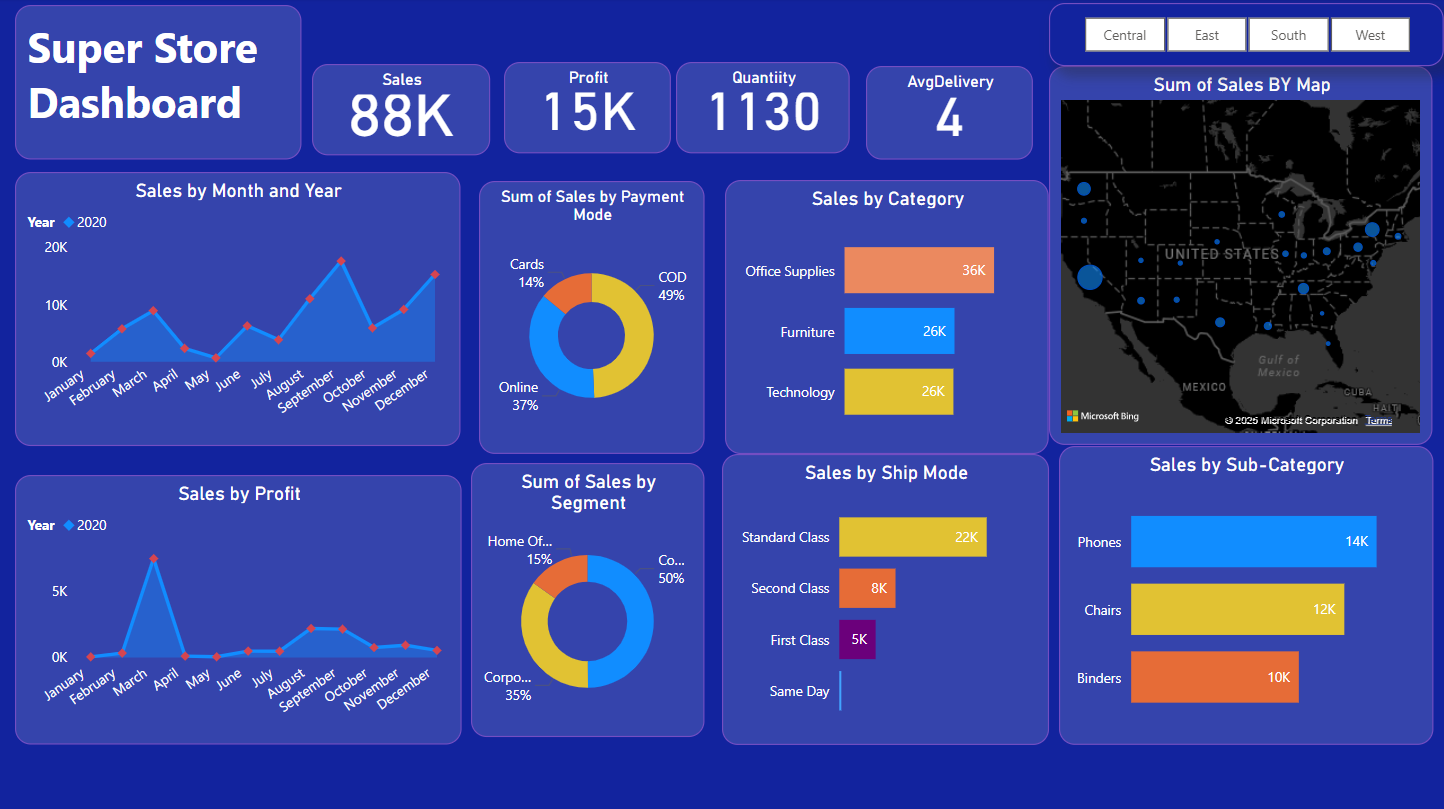

This screenshot's page, from the dashboard's own definition file:
{"tool":"powerbi","page":{"name":"Page 1","canvas":[1280,720],"ordinal":0},"visuals":[{"type":"clusteredBarChart","title":" Sales by Sub-Category","fields":{"Category":["SuperStore_Sales.Sub-Category"],"Y":["Sum(SuperStore_Sales.Sales)"]},"box":[939,397.2,331.6,265.1],"z":0},{"type":"clusteredBarChart","title":" Sales by Category","fields":{"Category":["SuperStore_Sales.Category"],"Y":["Sum(SuperStore_Sales.Sales)"]},"box":[642.9,161.4,287.3,243],"z":1000},{"type":"clusteredBarChart","title":" Sales by Ship Mode","fields":{"Category":["SuperStore_Sales.Ship Mode"],"Y":["Sum(SuperStore_Sales.Sales)"]},"box":[640.2,404.3,290,258],"z":2000},{"type":"areaChart","title":"Sales by Month and Year","fields":{"Y":["Sum(SuperStore_Sales.Sales)"],"Category":["SuperStore_Sales.Order Date.Variation.Date Hierarchy.Month","SuperStore_Sales.Order Date.Variation.Date Hierarchy.Day"],"Series":["SuperStore_Sales.Order Date.Variation.Date Hierarchy.Year"]},"box":[13.3,154.3,394.6,243],"z":3000},{"type":"areaChart","title":"Sales by Profit","fields":{"Category":["SuperStore_Sales.Order Date.Variation.Date Hierarchy.Month","SuperStore_Sales.Order Date.Variation.Date Hierarchy.Day"],"Series":["SuperStore_Sales.Order Date.Variation.Date Hierarchy.Year"],"Y":["Sum(SuperStore_Sales.Profit)"]},"box":[13.3,423,396.4,239.4],"z":4000},{"type":"map","title":"Sum of Sales BY Map","fields":{"Size":["Sum(SuperStore_Sales.Sales)"],"Category":["SuperStore_Sales.State"]},"box":[930.1,60.3,340.5,336.1],"z":5000},{"type":"donutChart","fields":{"Category":["SuperStore_Sales.Segment"],"Y":["Sum(SuperStore_Sales.Sales)"]},"box":[417.6,412.3,206.6,243],"z":6000},{"type":"donutChart","fields":{"Y":["Sum(SuperStore_Sales.Sales)"],"Category":["SuperStore_Sales.Payment Mode"]},"box":[424.7,162.3,199.5,242.1],"z":7000},{"type":"slicer","fields":{"Values":["SuperStore_Sales.Region"]},"box":[930.1,4.4,350.2,55.9],"z":8000},{"type":"textbox","box":[13.3,6.2,253.6,137.4],"z":9000},{"type":"card","title":"Sales","fields":{"Values":["Sum(SuperStore_Sales.Sales)"]},"box":[276.7,58.5,157.8,80.7],"z":10000},{"type":"card","title":"Profit","fields":{"Values":["Sum(SuperStore_Sales.Profit)"]},"box":[446.9,56.7,148.1,80.7],"z":11000},{"type":"card","title":"Quantiity","fields":{"Values":["Sum(SuperStore_Sales.Quantity)"]},"box":[599.4,56.7,154.3,80.7],"z":12000},{"type":"card","title":"AvgDelivery ","fields":{"Values":["Avg(SuperStore_Sales.AvgDelivery)"]},"box":[767.9,60.3,148.1,83.3],"z":13000}]}

Visuals, with their boxes in screenshot pixels (x1, y1, x2, y2), scaled from the page's 1280x720 canvas onto the 1444x809 screenshot:
" Sales by Sub-Category" clusteredBarChart: box=[1059, 446, 1433, 744]
" Sales by Category" clusteredBarChart: box=[725, 181, 1049, 454]
" Sales by Ship Mode" clusteredBarChart: box=[722, 454, 1049, 744]
"Sales by Month and Year" areaChart: box=[15, 173, 460, 446]
"Sales by Profit" areaChart: box=[15, 475, 462, 744]
"Sum of Sales BY Map" map: box=[1049, 68, 1433, 445]
donutChart - SuperStore_Sales.Segment x Sum(SuperStore_Sales.Sales): box=[471, 463, 704, 736]
donutChart - Sum(SuperStore_Sales.Sales) x SuperStore_Sales.Payment Mode: box=[479, 182, 704, 454]
slicer - SuperStore_Sales.Region: box=[1049, 5, 1443, 68]
textbox: box=[15, 7, 301, 161]
"Sales" card: box=[312, 66, 490, 156]
"Profit" card: box=[504, 64, 671, 154]
"Quantiity" card: box=[676, 64, 850, 154]
"AvgDelivery " card: box=[866, 68, 1033, 161]
